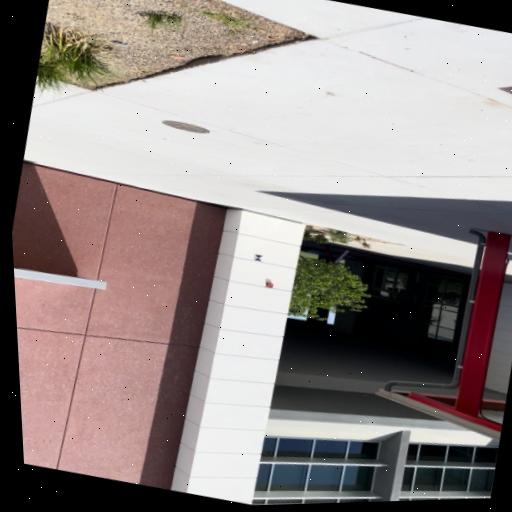target2: (253, 253, 263, 261)
